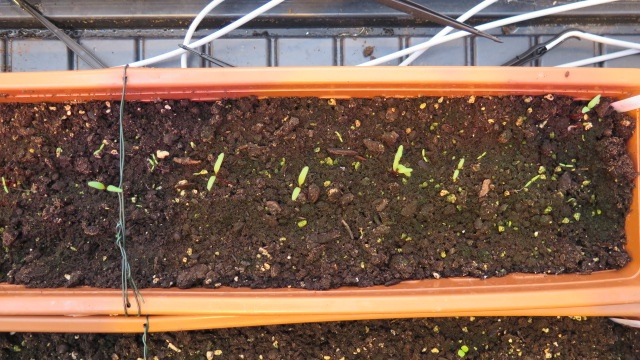crop: (572, 95, 600, 130), (205, 151, 227, 192), (289, 165, 310, 201), (389, 145, 410, 178), (83, 181, 124, 193)
weed: (449, 157, 465, 180), (522, 174, 541, 190), (456, 343, 470, 357), (92, 143, 105, 156), (557, 161, 573, 170), (1, 176, 9, 194), (419, 148, 428, 163), (146, 156, 154, 171), (475, 150, 486, 160), (150, 153, 161, 163)
